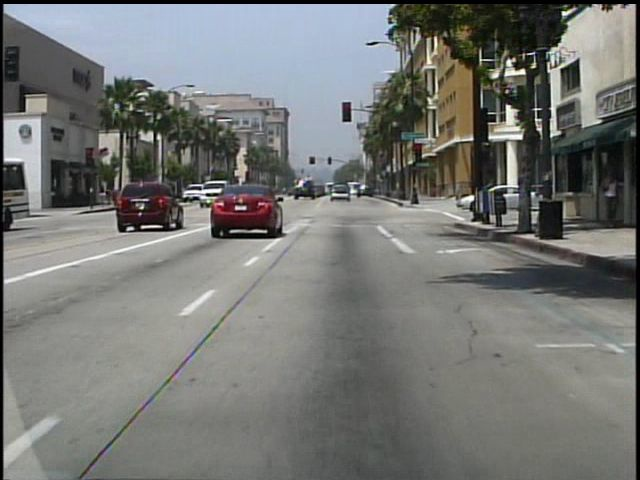person: (598, 167, 621, 228)
